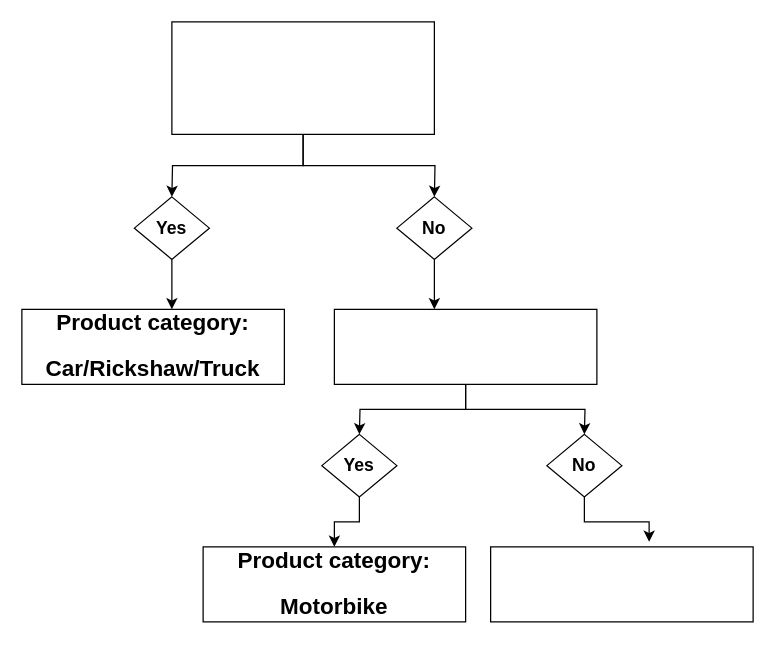
The diagram is 775 pixels wide and 661 high, and some of its shapes have lost their labels. The shapes that lost their labels are listed below. From the top down, each one's centre as x and y in pixels, then its label:
point 302,77: Does the vehicle have more than 2 wheels?
point 465,346: Does it have a geared transmission system?
point 621,584: Product category: Scooter
